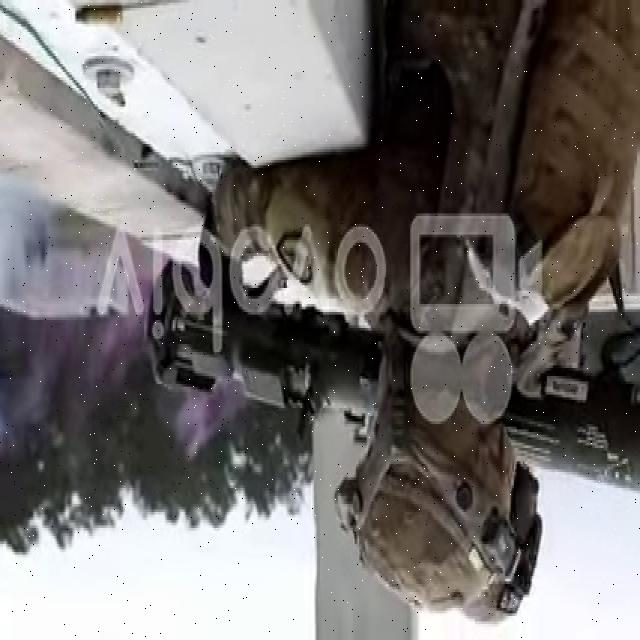bazooka: (138, 249, 640, 505)
